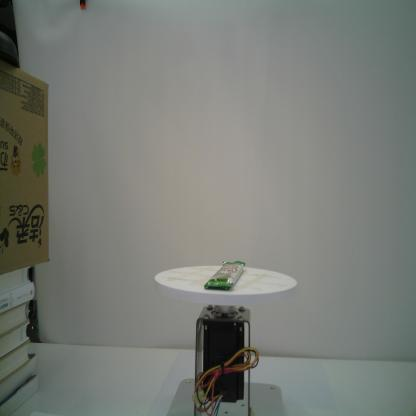Chocolate: (204, 259, 246, 292)
